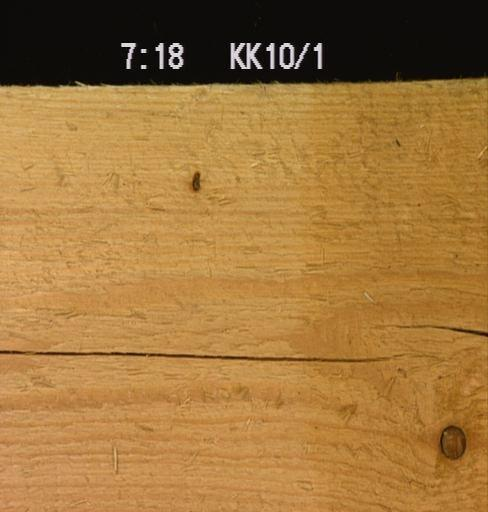dry_knot: (438, 423, 467, 460), (189, 168, 202, 192)
split: (0, 348, 392, 363), (380, 322, 487, 337)
